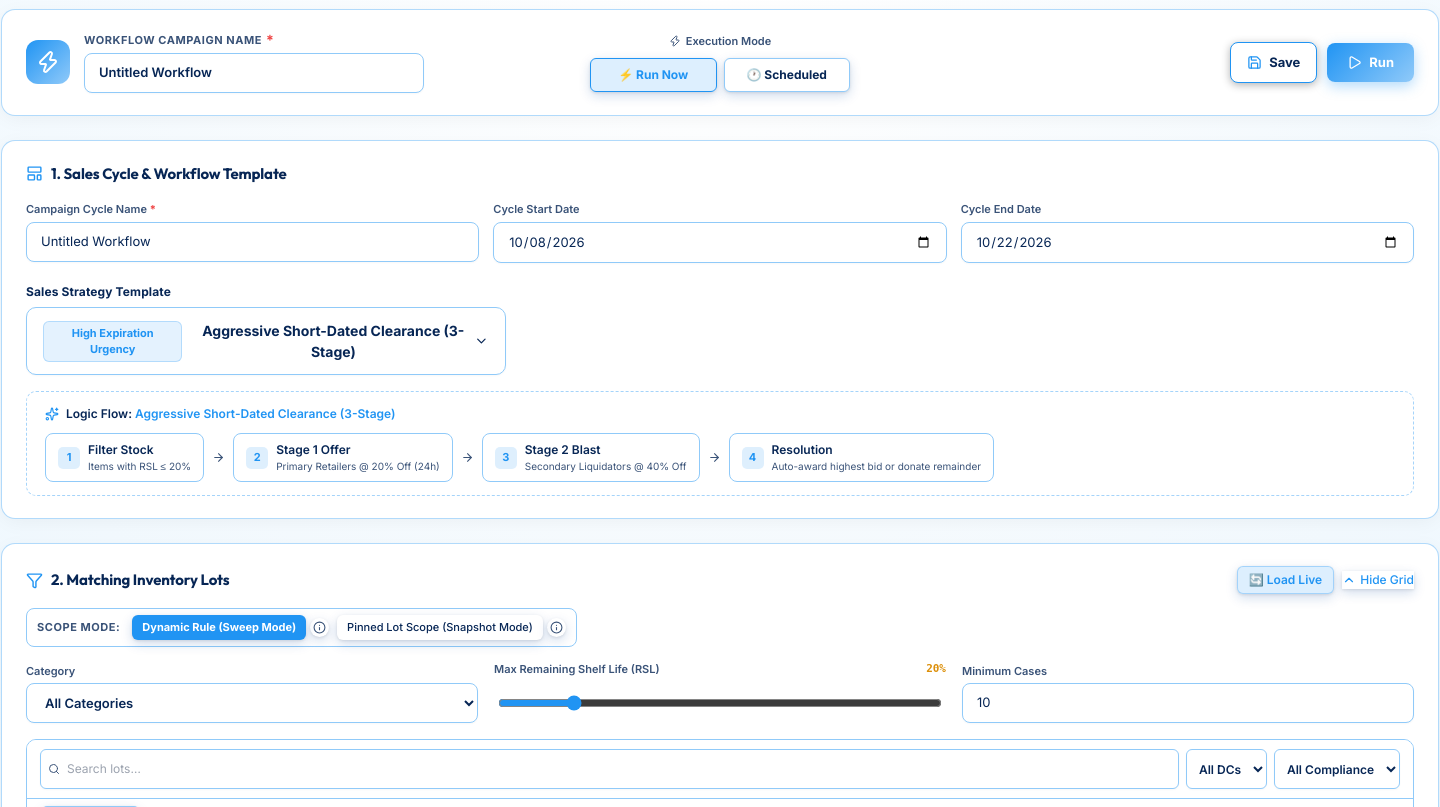
it: Pre-Flight Automation Launch Audit Modal Closing › closes the modal and resets submitting state if launch fails with an error
This screenshot has width=1440, height=807.
Click the button "Run" at (1371, 62), box [1327,42,1414,82]
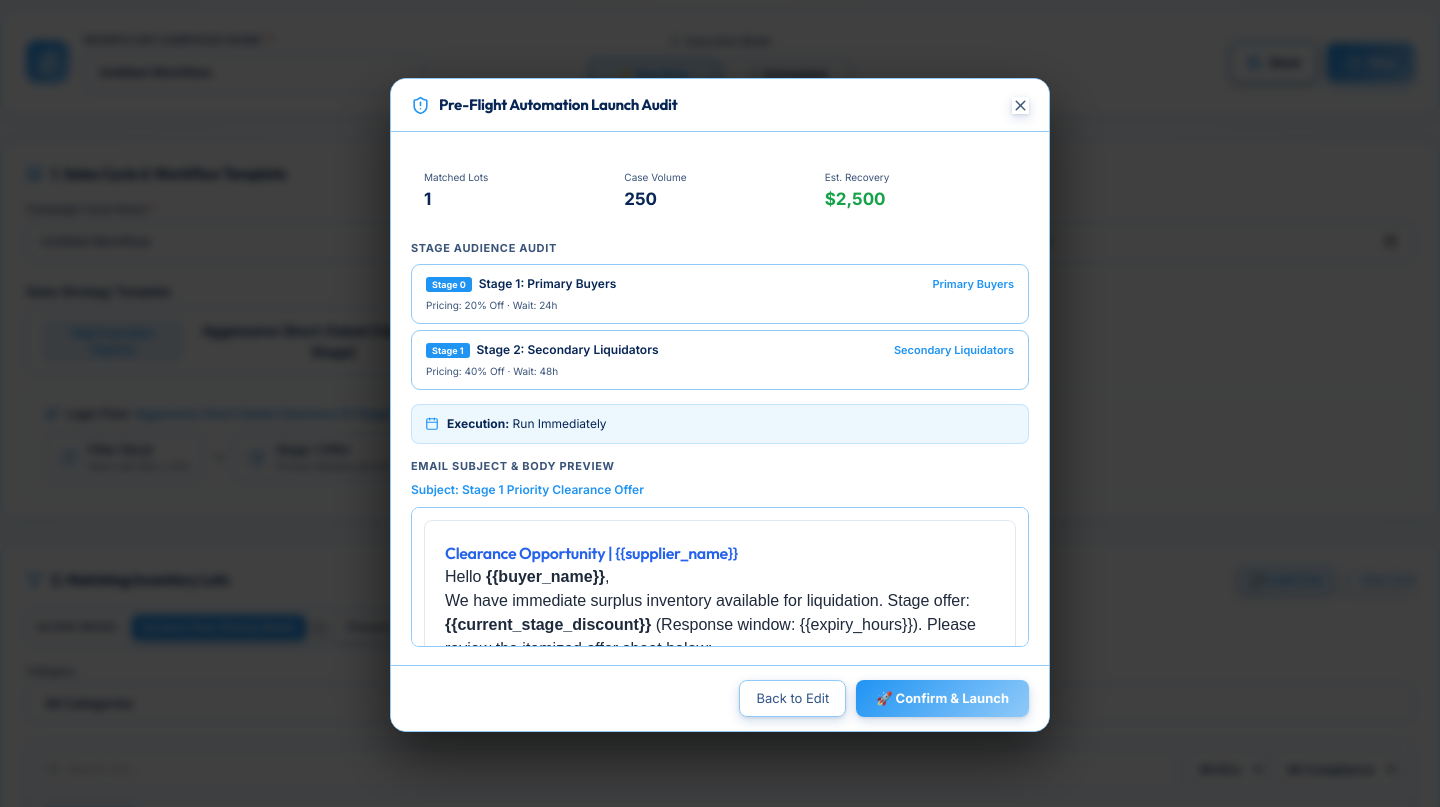
Expected: the heading "Pre-Flight Automation Launch Audit" is shown, [439,94,677,116]
Click the button "🚀 Confirm & Launch" at (943, 699), box [856,680,1029,717]
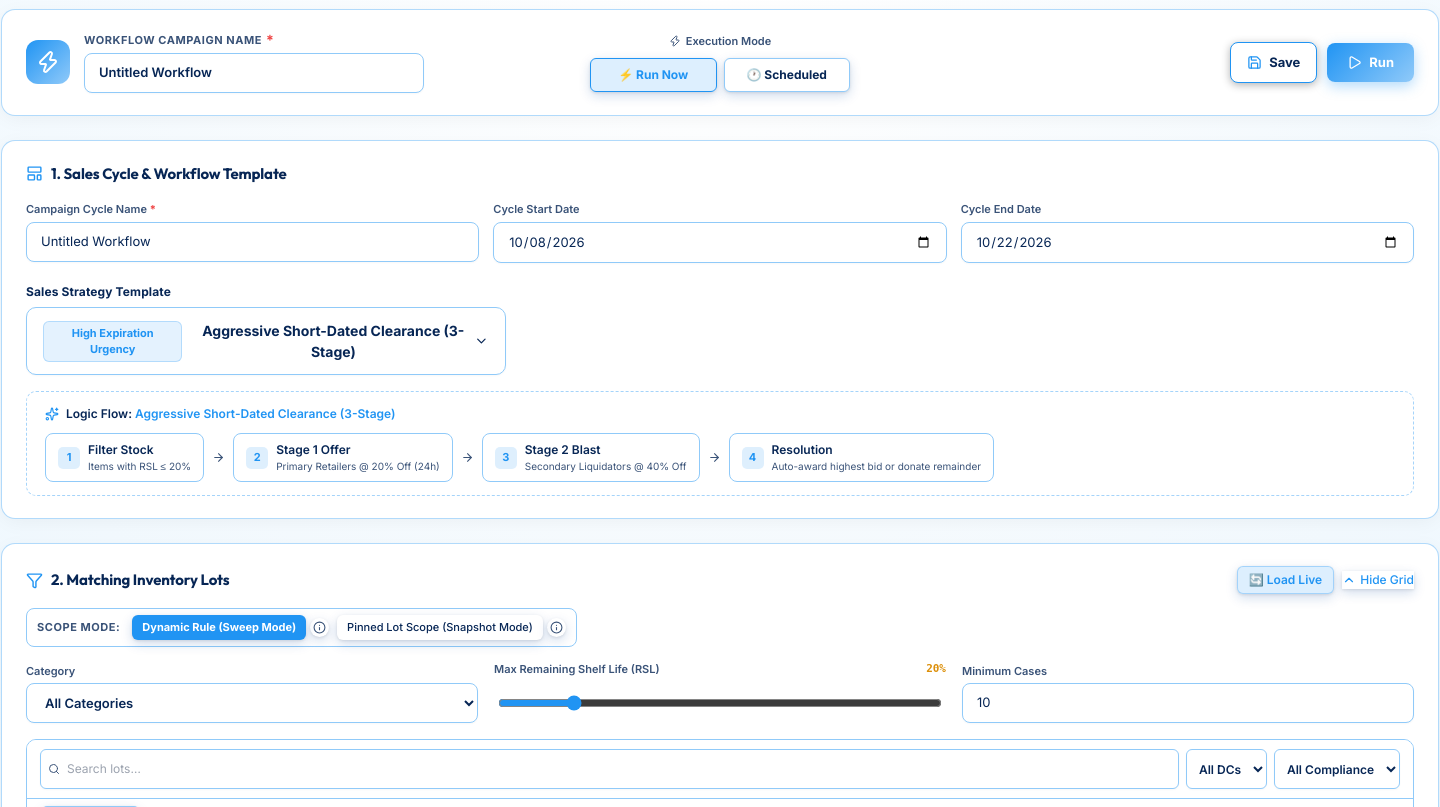
Expected: the heading "Pre-Flight Automation Launch Audit" is gone
